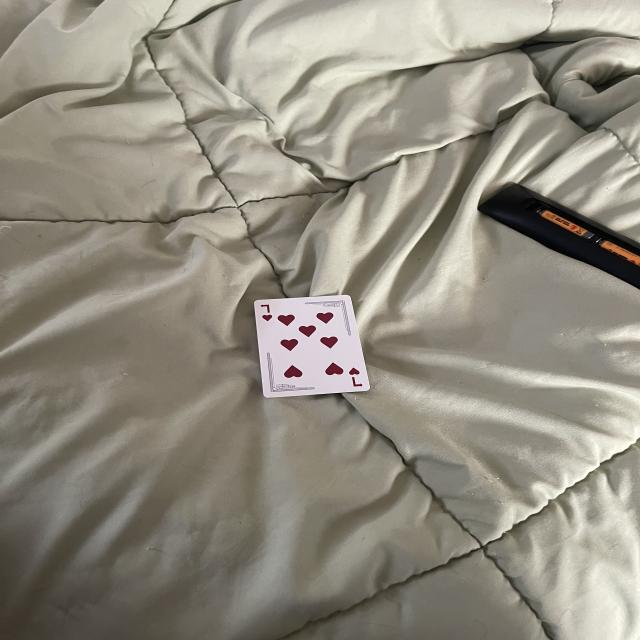7 of hearts: (255, 294, 375, 402)
